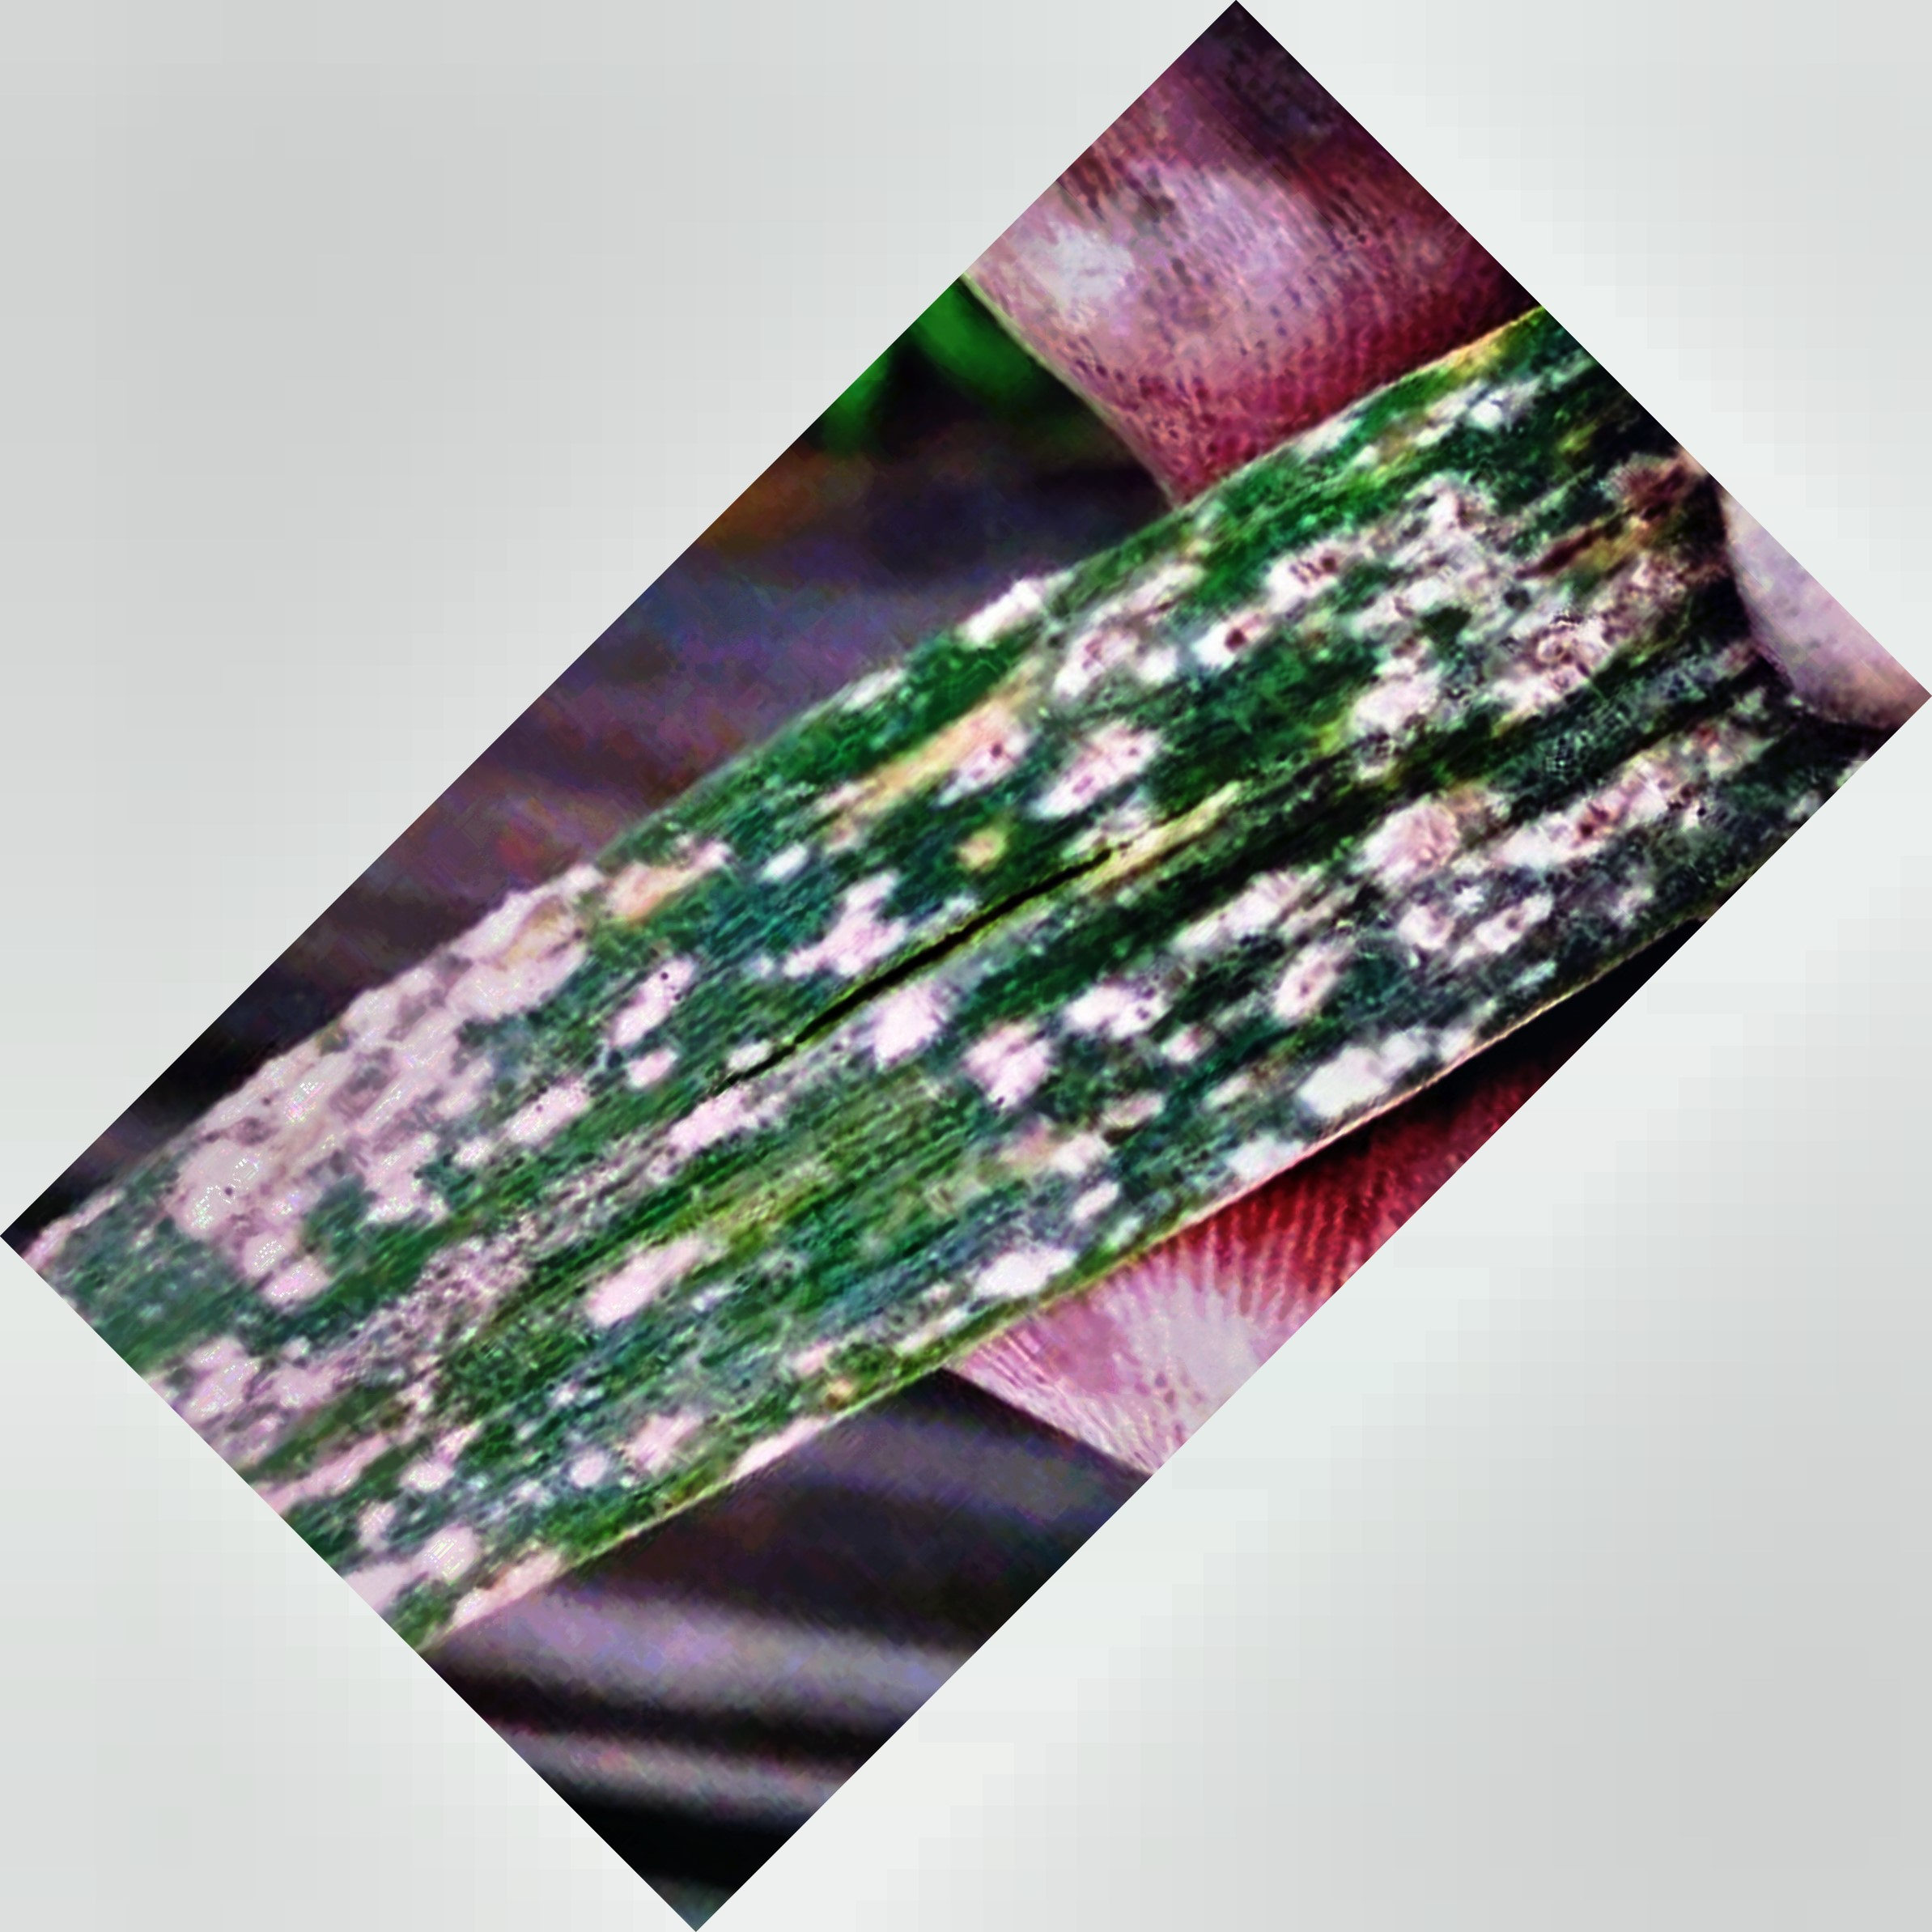Powdery Mildew: (207, 416, 1665, 1557)
